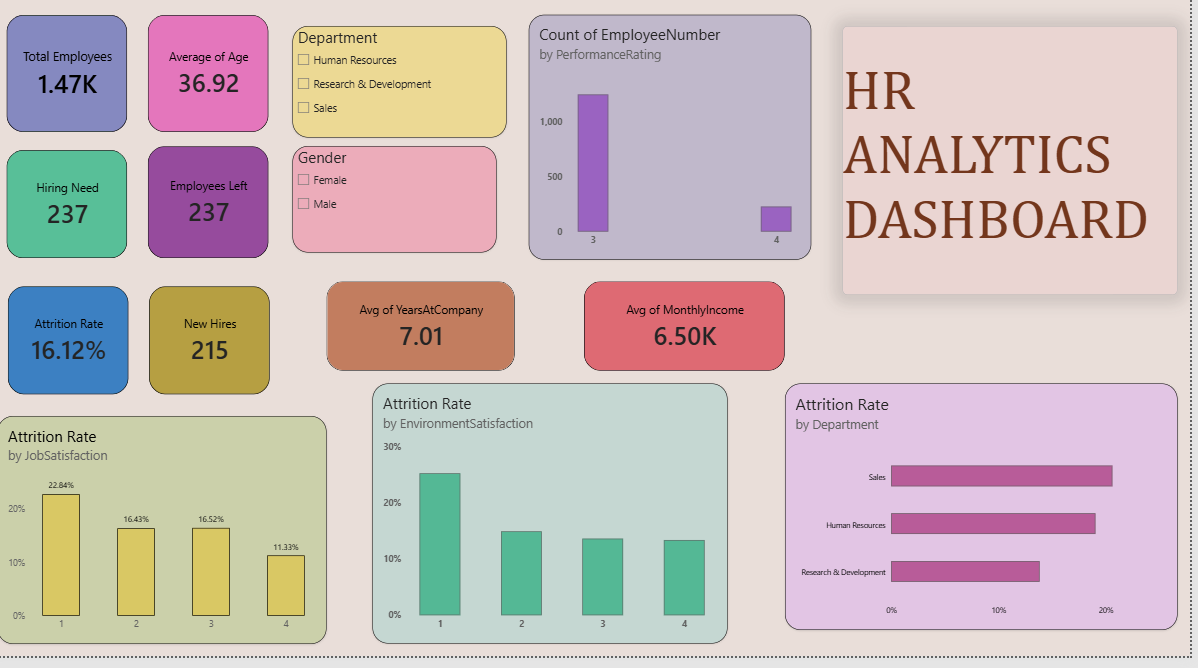

The page's visual inventory and layout, read from the dashboard file:
{"tool":"powerbi","page":{"name":"Page 1","canvas":[1920,1080],"ordinal":0},"visuals":[{"type":"cardVisual","fields":{"Data":["CountNonNull(HR.EmployeeNumber)"]},"box":[26,54,194,188],"z":0},{"type":"cardVisual","fields":{"Data":["Avg(HR.MonthlyIncome)"]},"box":[950,480,322,144],"z":1000},{"type":"cardVisual","fields":{"Data":["Avg(HR.Age)"]},"box":[252,54,194,188],"z":2000},{"type":"cardVisual","fields":{"Data":["Avg(HR.YearsAtCompany)"]},"box":[538,480,302,144],"z":3000},{"type":"cardVisual","fields":{"Data":["HR.Attrition Rate"]},"box":[28,488,194,174],"z":4000},{"type":"cardVisual","fields":{"Data":["HR.Employees Left"]},"box":[252,264,194,180],"z":5000},{"type":"cardVisual","fields":{"Data":["HR.Hiring Need"]},"box":[26,270,194,174],"z":6000},{"type":"cardVisual","fields":{"Data":["HR.New Hires"]},"box":[254,488,194,174],"z":7000},{"type":"clusteredBarChart","fields":{"Category":["HR.Department"],"Y":["HR.Attrition Rate"]},"box":[1272,644,628,394],"z":8000},{"type":"clusteredColumnChart","fields":{"Category":["HR.JobSatisfaction"],"Y":["HR.Attrition Rate"]},"box":[12,696,526.6,364.7],"z":9000},{"type":"clusteredColumnChart","fields":{"Category":["HR.PerformanceRating"],"Y":["Count(HR.EmployeeNumber)"]},"box":[862,54,452,392],"z":10000},{"type":"clusteredColumnChart","fields":{"Category":["HR.EnvironmentSatisfaction"],"Y":["HR.Attrition Rate"]},"box":[612,644,568,416],"z":11000},{"type":"slicer","fields":{"Values":["HR.Department"]},"box":[484,72,342,178],"z":13000},{"type":"slicer","fields":{"Values":["HR.Gender"]},"box":[484,264,326,170],"z":13001},{"type":"textbox","box":[1364,72,536,430],"z":13002}]}

Visuals, with their boxes in screenshot pixels (x1, y1, x2, y2), scaled from the page's 1920x1080 canvas onto the 1198x668 screenshot:
cardVisual - CountNonNull(HR.EmployeeNumber): 16/33/137/150
cardVisual - Avg(HR.MonthlyIncome): 593/297/794/386
cardVisual - Avg(HR.Age): 157/33/278/150
cardVisual - Avg(HR.YearsAtCompany): 336/297/524/386
cardVisual - HR.Attrition Rate: 17/302/139/409
cardVisual - HR.Employees Left: 157/163/278/275
cardVisual - HR.Hiring Need: 16/167/137/275
cardVisual - HR.New Hires: 158/302/280/409
clusteredBarChart - HR.Department x HR.Attrition Rate: 794/398/1186/642
clusteredColumnChart - HR.JobSatisfaction x HR.Attrition Rate: 7/430/336/656
clusteredColumnChart - HR.PerformanceRating x Count(HR.EmployeeNumber): 538/33/820/276
clusteredColumnChart - HR.EnvironmentSatisfaction x HR.Attrition Rate: 382/398/736/656
slicer - HR.Department: 302/45/515/155
slicer - HR.Gender: 302/163/505/268
textbox: 851/45/1186/310
